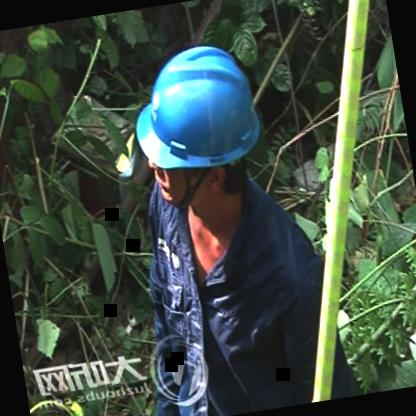helmet: (119, 19, 282, 239)
